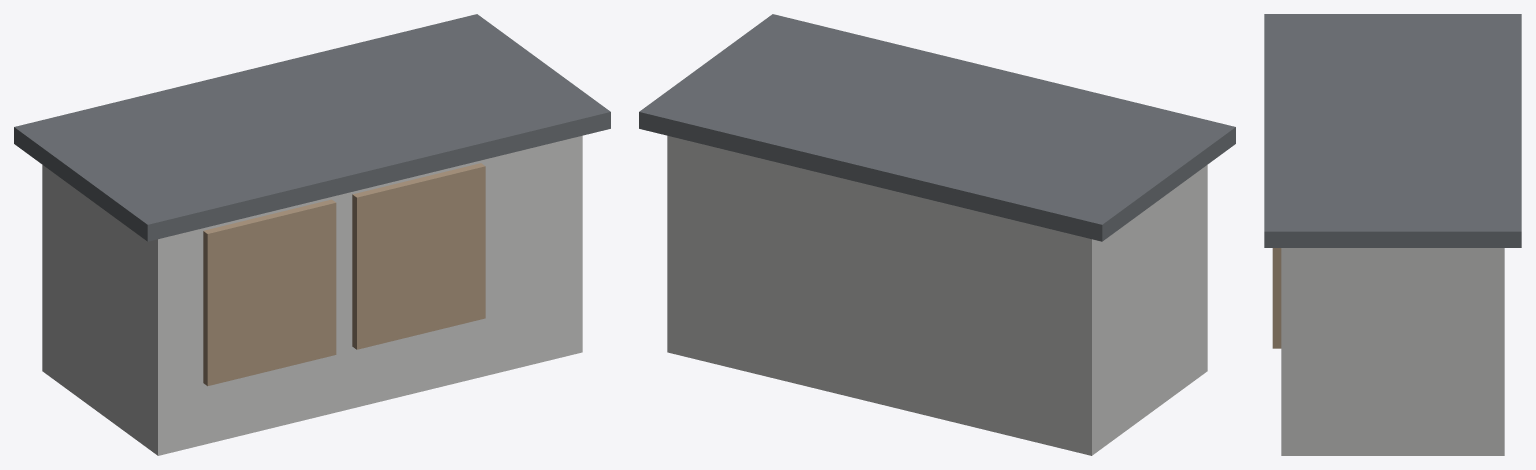
The model's file is kitchen-island.glb.
3 views of the same model, side by side, from view 1: azimuth 30°, elevation 25°; view 2: azimuth 150°, elevation 25°; view 3: azimuth 270°, elevation 25° (orthographic). The views are drawn at different scales.
Parts seen in each view (by area): view 1: world; view 2: world; view 3: world.
Boxes of the visible parts, x1,y1,x2,y2 form: world: [14, 14, 610, 455]; world: [639, 14, 1235, 455]; world: [1264, 14, 1521, 455].
Size of the model in its own units: 1.8 by 0.9 by 0.9.
